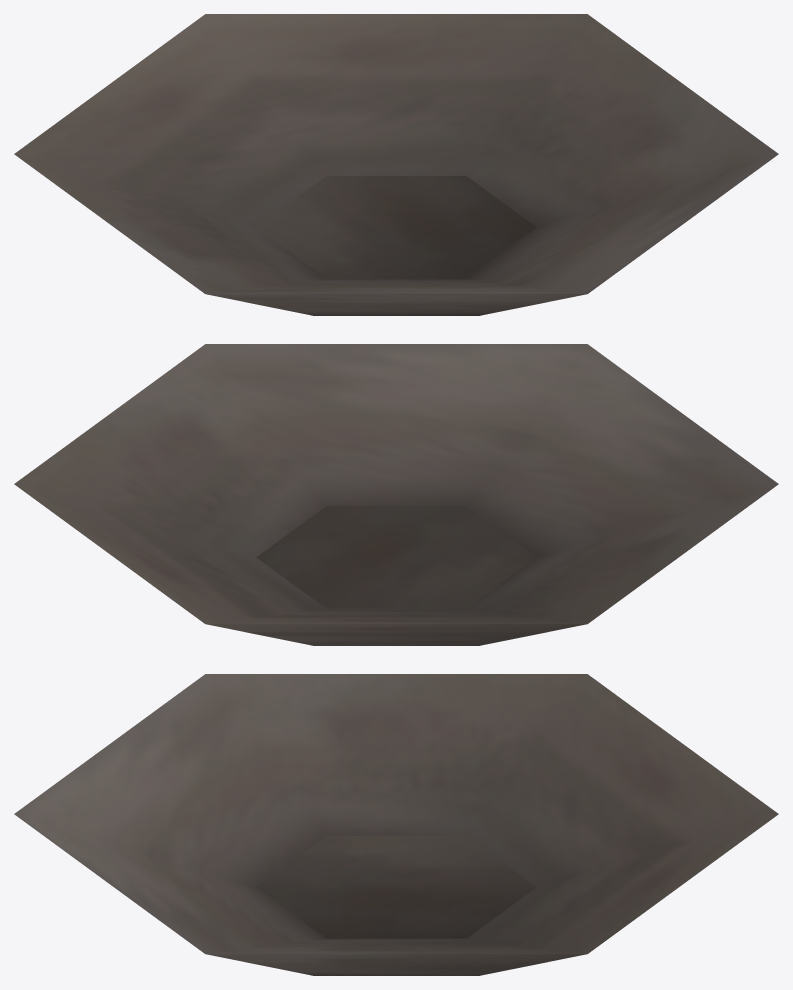
The model's file is Dish03.fbx.
The picture shows the model from 3 angles, top to bottom: view 1: azimuth 30°, elevation 25°; view 2: azimuth 150°, elevation 25°; view 3: azimuth 270°, elevation 25°; orthographic projection.
Parts seen in each view (by area): view 1: Dish03; view 2: Dish03; view 3: Dish03.
Part boxes in pixels (x1,y1,x2,y2): Dish03: (14, 14, 778, 315); Dish03: (14, 344, 778, 645); Dish03: (14, 674, 778, 975).
Bounding box in the file's own units: 0.3189 × 0.0535 × 0.3682.
